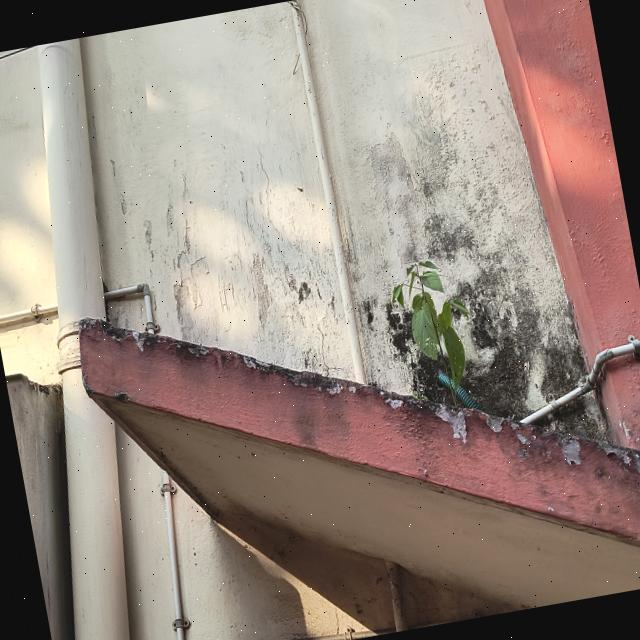Moss growth due to damping: (385, 253, 466, 410)
Paint Peeling: (84, 317, 640, 542), (142, 198, 395, 379)
pollution -moisture induced blackening: (80, 316, 640, 544), (434, 215, 592, 418)
